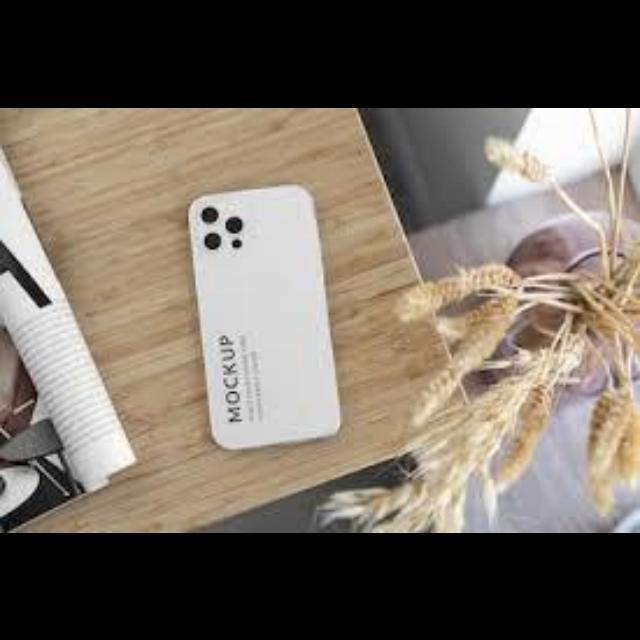PhoneUse: (190, 182, 340, 450)
